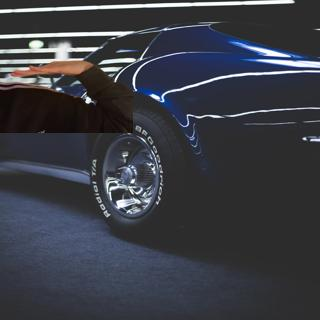WAIT: (8, 55, 92, 81)
